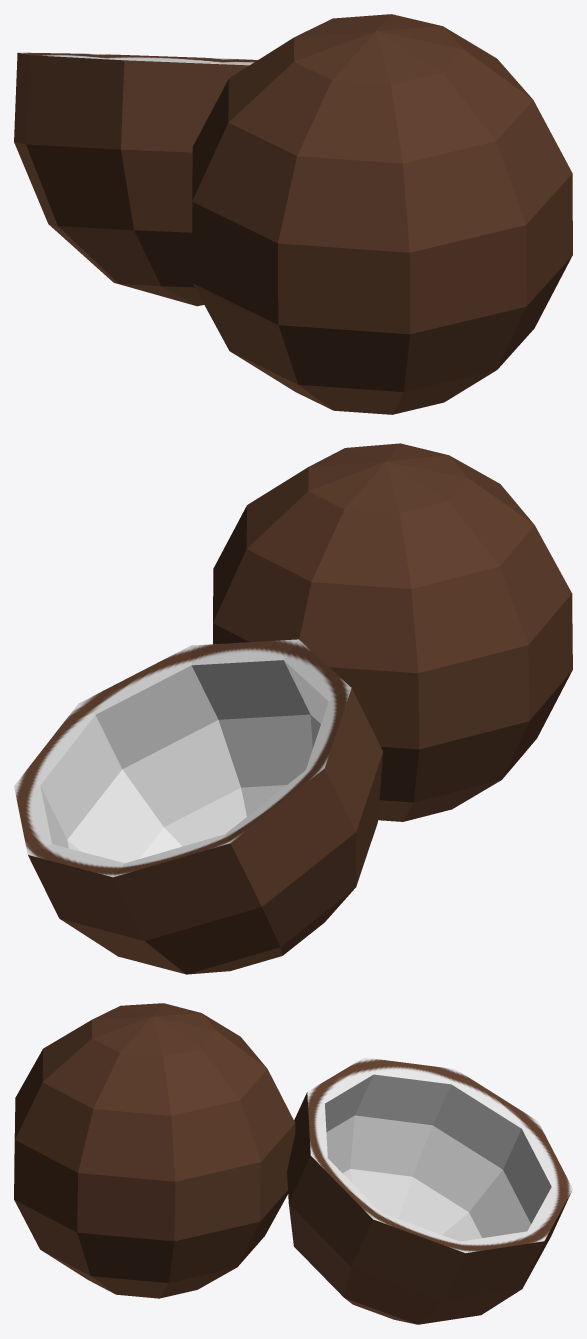
The model's file is Coconut.fbx.
3 views of the same model, one above another, from view 1: azimuth 30°, elevation 25°; view 2: azimuth 150°, elevation 25°; view 3: azimuth 270°, elevation 25° (orthographic). The views are drawn at different scales.
Parts seen in each view (by area): view 1: Sphere; view 2: Sphere; view 3: Sphere.
Boxes of the visible parts, box(x1,y1,x2,y2) form: Sphere: box(14, 14, 572, 414); Sphere: box(14, 443, 572, 974); Sphere: box(14, 1003, 572, 1324).
Size of the model in its own units: 210 by 228 by 396.
Materials: 1 (1 with a texture image).
